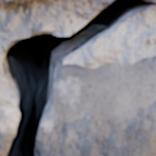brick: (0, 0, 25, 3)
broken_brick: (37, 55, 155, 155), (0, 92, 16, 155)
crack: (0, 0, 153, 155)
